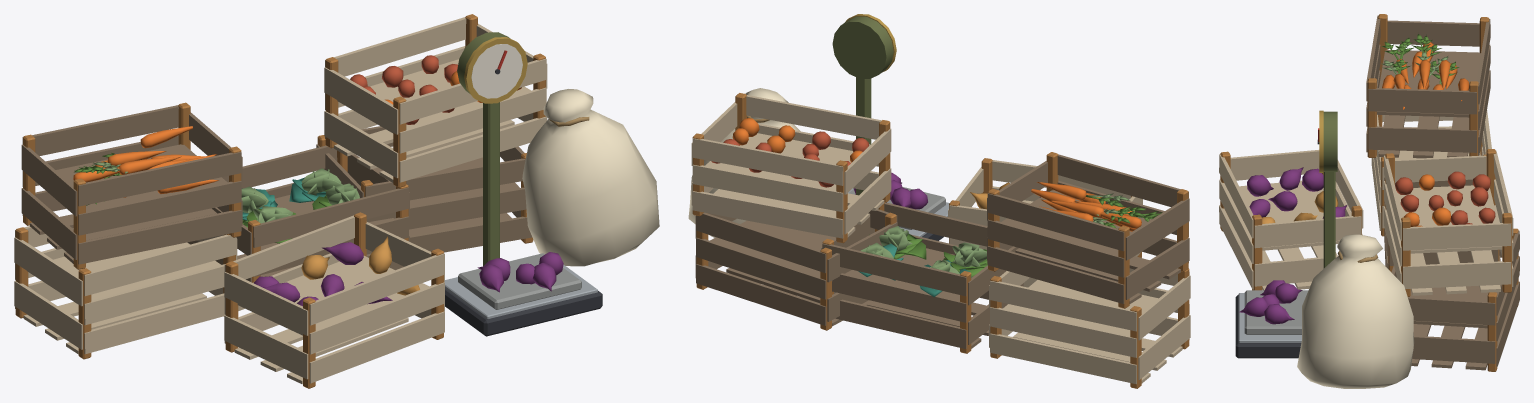
Rendered from deco_harvest_crates.fbx.
3 views of the same model, side by side, from view 1: azimuth 30°, elevation 25°; view 2: azimuth 150°, elevation 25°; view 3: azimuth 270°, elevation 25° (orthographic). The views are drawn at different scales.
Visible parts, largest first — view 1: HarvestCrates_Crates, HarvestCrates_Sack, HarvestCrates_Scale, HarvestCrates_Produce, HarvestCrates_Greens; view 2: HarvestCrates_Crates, HarvestCrates_Scale, HarvestCrates_Produce, HarvestCrates_Greens, HarvestCrates_Sack; view 3: HarvestCrates_Crates, HarvestCrates_Sack, HarvestCrates_Scale, HarvestCrates_Produce, HarvestCrates_Greens.
Boxes of the visible parts, x1=… form: HarvestCrates_Crates: x1=14, y1=14, x2=547, y2=388; HarvestCrates_Sack: x1=522, y1=89, x2=659, y2=266; HarvestCrates_Scale: x1=445, y1=32, x2=602, y2=336; HarvestCrates_Produce: x1=73, y1=47, x2=521, y2=306; HarvestCrates_Greens: x1=74, y1=152, x2=359, y2=243; HarvestCrates_Crates: x1=691, y1=93, x2=1190, y2=388; HarvestCrates_Scale: x1=832, y1=14, x2=949, y2=240; HarvestCrates_Produce: x1=711, y1=118, x2=1141, y2=231; HarvestCrates_Greens: x1=858, y1=193, x2=1162, y2=297; HarvestCrates_Sack: x1=688, y1=88, x2=800, y2=237; HarvestCrates_Crates: x1=1219, y1=14, x2=1519, y2=371; HarvestCrates_Sack: x1=1297, y1=234, x2=1414, y2=388; HarvestCrates_Scale: x1=1235, y1=110, x2=1337, y2=358; HarvestCrates_Produce: x1=1247, y1=42, x2=1495, y2=226; HarvestCrates_Greens: x1=1381, y1=34, x2=1459, y2=84.
Size of the model in its own units: 284 by 121 by 149.
